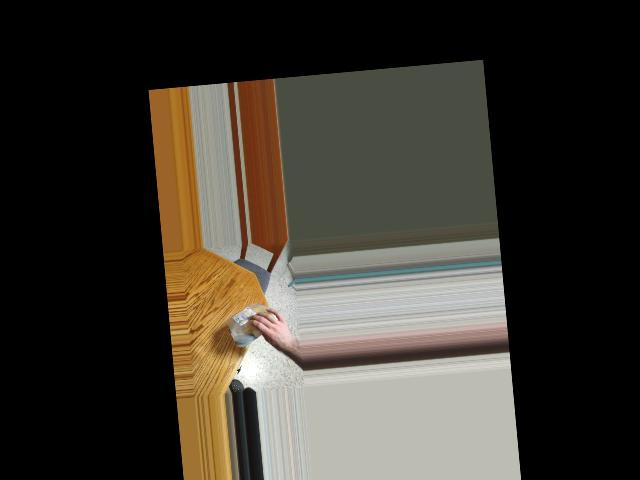cheese: (229, 304, 272, 335)
